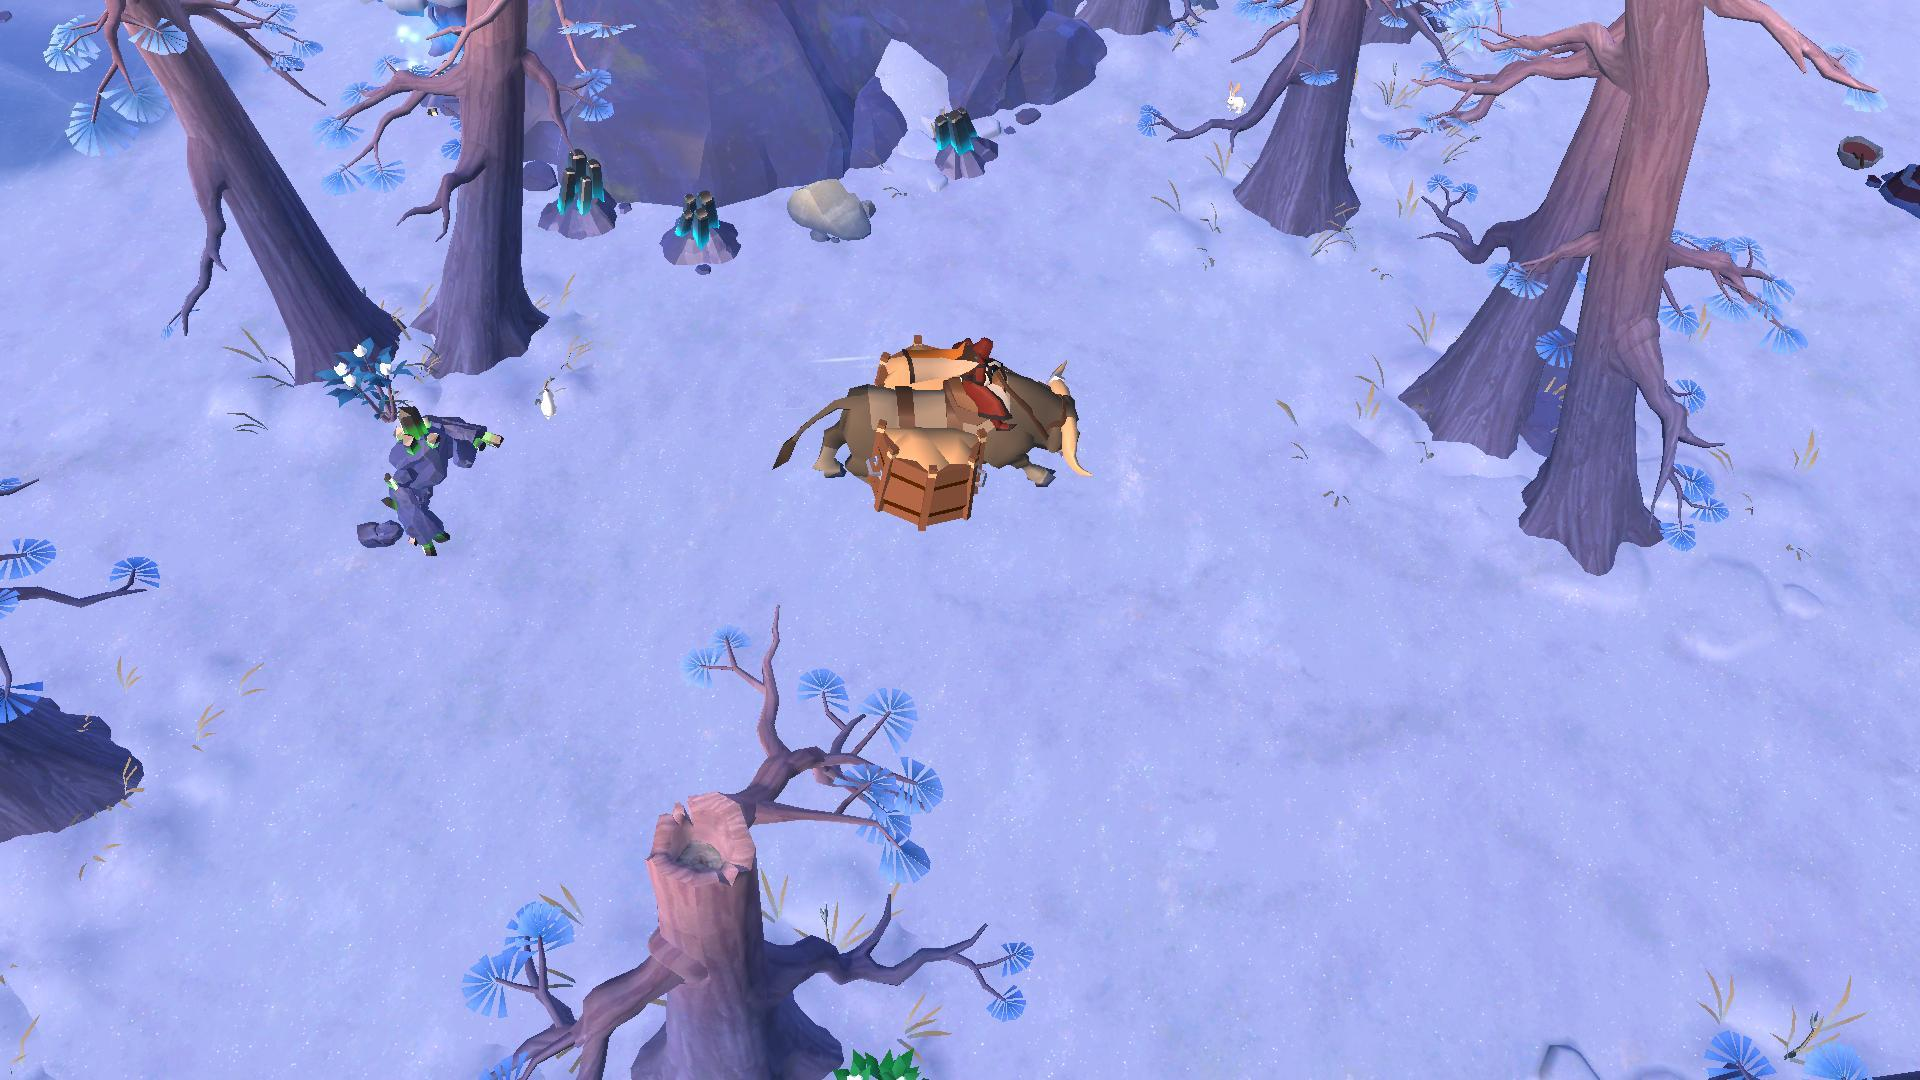fiber_t3: (824, 1050, 939, 1080)
ore_t4: (554, 144, 608, 215), (926, 103, 977, 161), (670, 186, 721, 243)
